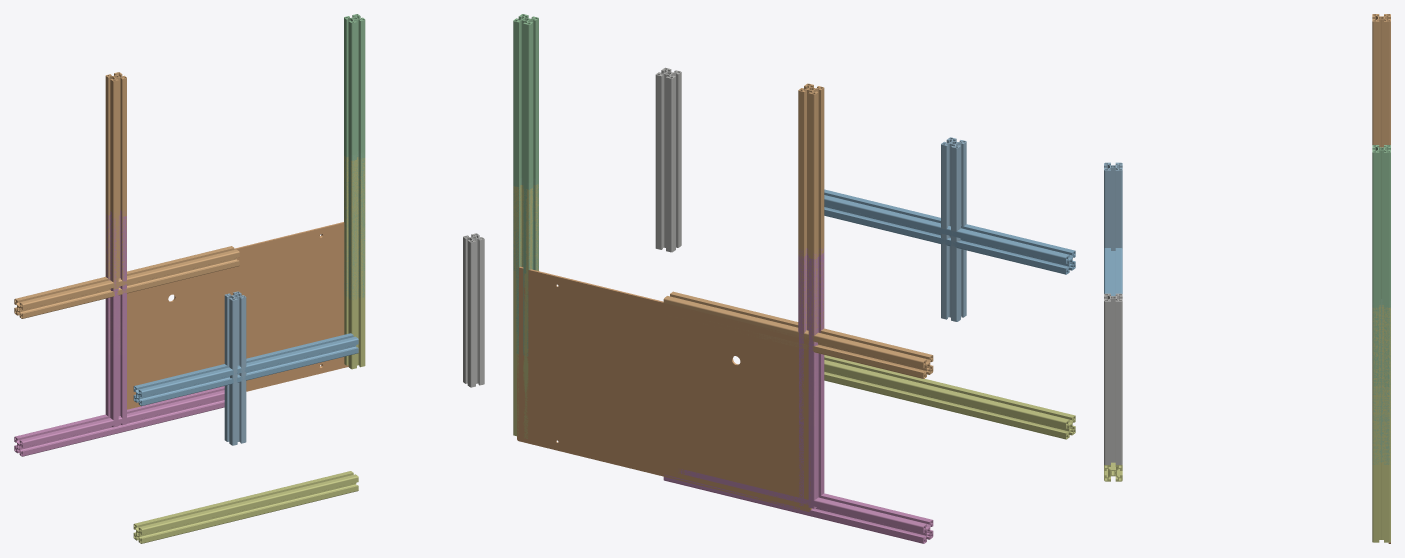
Rendered from case-06_gemini31.glb.
3 renders of one model, left to right at view 1: azimuth 30°, elevation 25°; view 2: azimuth 150°, elevation 25°; view 3: azimuth 270°, elevation 25°, orthographic. The views are drawn at different scales.
Visible parts, largest first — view 1: c00009, c00011, c00010, c00013, c00012, c00003, c00001, c00002, c00004, c00005, c00006, c00008 (+1 smaller); view 2: c00009, c00011, c00010, c00003, c00004, c00013, c00002, c00005, c00012, c00006, c00001, c00008 (+1 smaller); view 3: c00001, c00004, c00005, c00003, c00006, c00008, c00010.
Part boxes in pixels (x1,y1,x2,y2): c00009: (127, 222, 348, 409); c00011: (133, 471, 358, 543); c00010: (133, 333, 358, 406); c00013: (14, 246, 239, 318); c00012: (14, 386, 224, 456); c00003: (105, 72, 126, 289); c00001: (344, 156, 365, 369); c00002: (105, 214, 126, 427); c00004: (344, 14, 365, 230); c00005: (463, 233, 484, 387); c00006: (224, 291, 246, 445); c00008: (344, 151, 365, 299); c00009: (517, 266, 811, 511); c00011: (824, 355, 1075, 439); c00010: (824, 189, 1075, 274); c00003: (798, 83, 824, 343); c00004: (513, 14, 538, 273); c00013: (663, 291, 933, 378); c00002: (798, 253, 824, 508); c00005: (655, 67, 681, 252); c00012: (663, 469, 933, 543); c00006: (941, 137, 966, 321); c00001: (513, 184, 538, 438); c00008: (513, 178, 538, 356); c00001: (1372, 305, 1390, 542); c00004: (1372, 145, 1390, 387); c00005: (1104, 293, 1122, 464); c00003: (1372, 14, 1390, 147); c00006: (1104, 162, 1122, 250); c00008: (1372, 299, 1390, 464); c00010: (1104, 248, 1122, 296).
Bounding box in the file's own units: 965 × 950 × 620.
